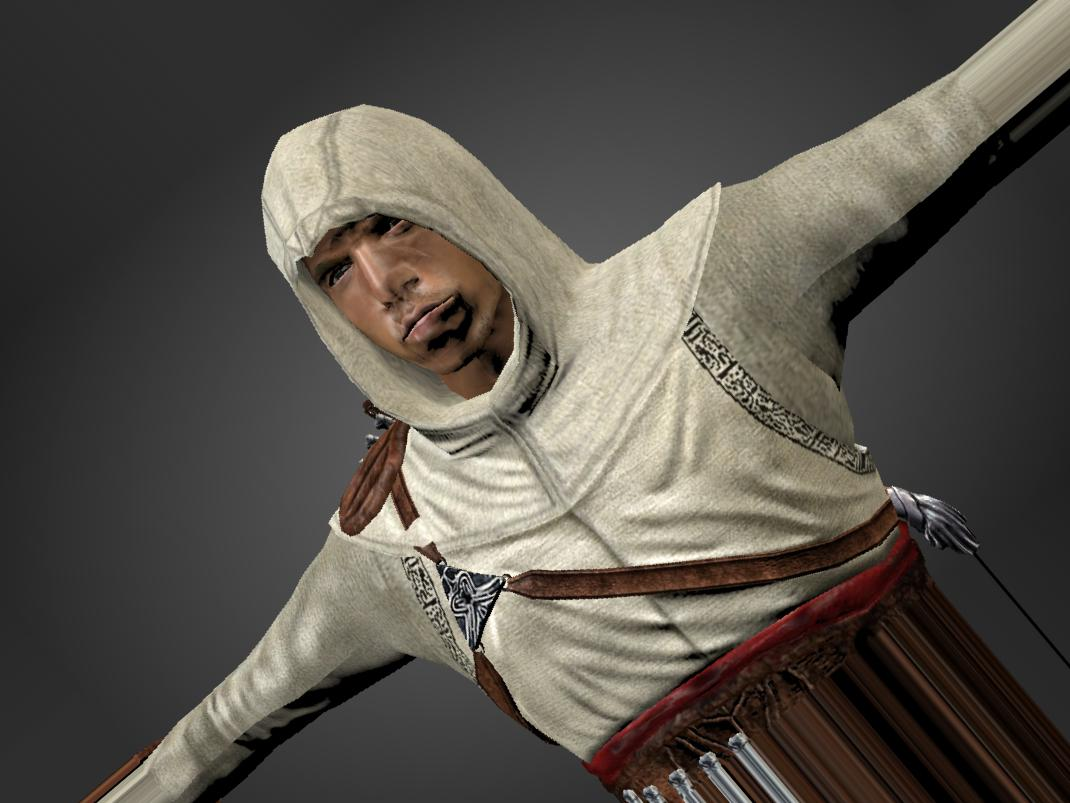clip: (400, 519, 440, 551)
